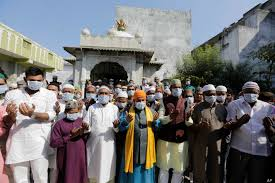mask: (26, 67, 43, 90), (242, 79, 258, 103), (63, 100, 80, 119), (97, 85, 110, 106), (202, 84, 216, 103), (61, 81, 74, 101), (215, 84, 228, 102), (169, 80, 182, 98), (1, 71, 9, 95), (117, 91, 128, 108), (134, 91, 145, 108), (85, 86, 96, 100), (126, 84, 137, 98), (146, 87, 155, 103), (155, 85, 163, 97), (141, 75, 149, 86), (184, 75, 190, 86), (114, 83, 122, 91), (154, 75, 159, 82)
